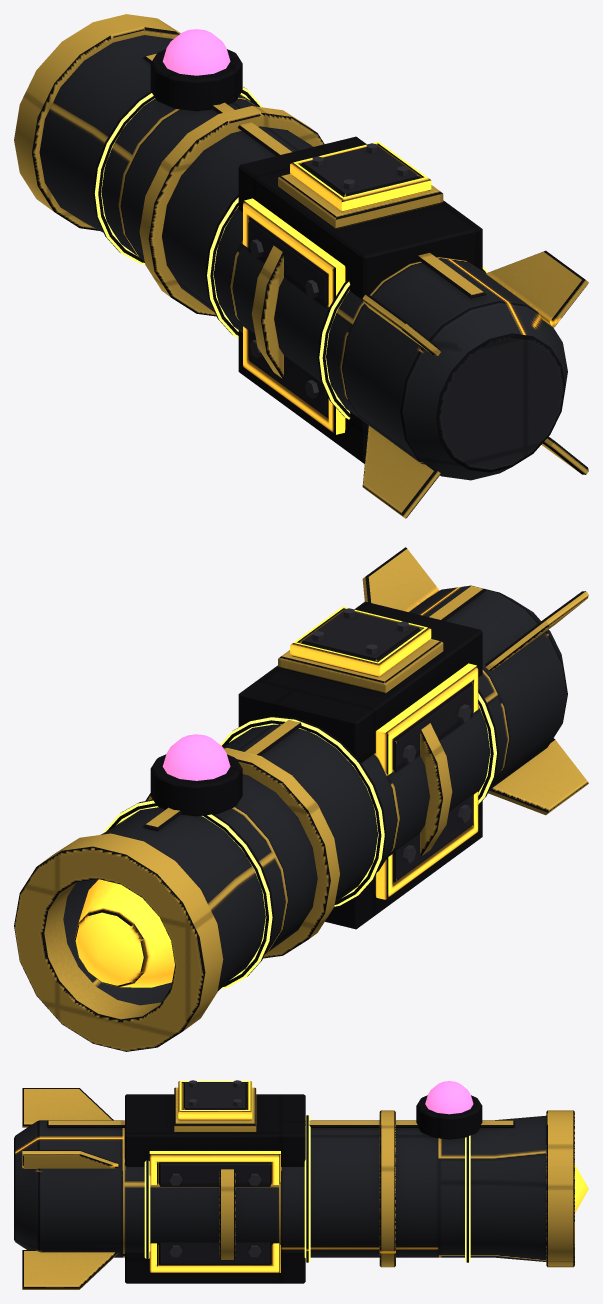
Rendered from torpedo_t4.fbx.
The picture shows the model from 3 angles, top to bottom: view 1: azimuth 30°, elevation 25°; view 2: azimuth 150°, elevation 25°; view 3: azimuth 270°, elevation 25°; orthographic projection. The views are drawn at different scales.
Parts seen in each view (by area): view 1: torpedo_t4, torpedo_t4_neon, torpedo_t4_neon2; view 2: torpedo_t4, torpedo_t4_neon, torpedo_t4_neon2; view 3: torpedo_t4, torpedo_t4_neon, torpedo_t4_neon2.
Boxes of the visible parts, left/top/right/bottom form: torpedo_t4: left=14, top=14, right=588, bottom=518; torpedo_t4_neon: left=94, top=87, right=487, bottom=419; torpedo_t4_neon2: left=162, top=29, right=230, bottom=75; torpedo_t4: left=14, top=547, right=588, bottom=1051; torpedo_t4_neon: left=104, top=693, right=496, bottom=989; torpedo_t4_neon2: left=162, top=734, right=230, bottom=780; torpedo_t4: left=14, top=1080, right=588, bottom=1289; torpedo_t4_neon: left=144, top=1115, right=470, bottom=1262; torpedo_t4_neon2: left=425, top=1081, right=473, bottom=1114.
Size of the model in its own units: 1.92 by 2.42 by 7.
